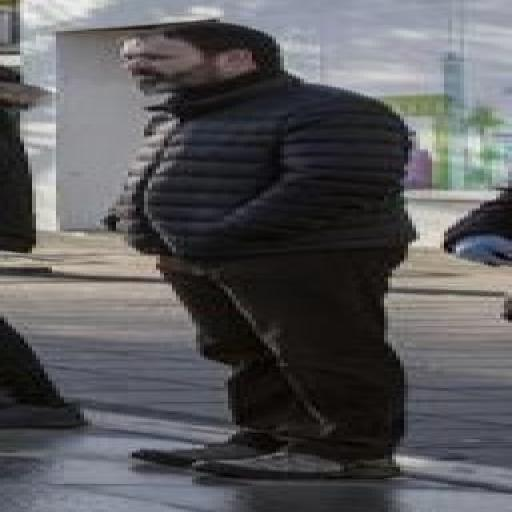person: (108, 22, 415, 479), (0, 67, 43, 252), (444, 187, 511, 266), (444, 188, 511, 265)
